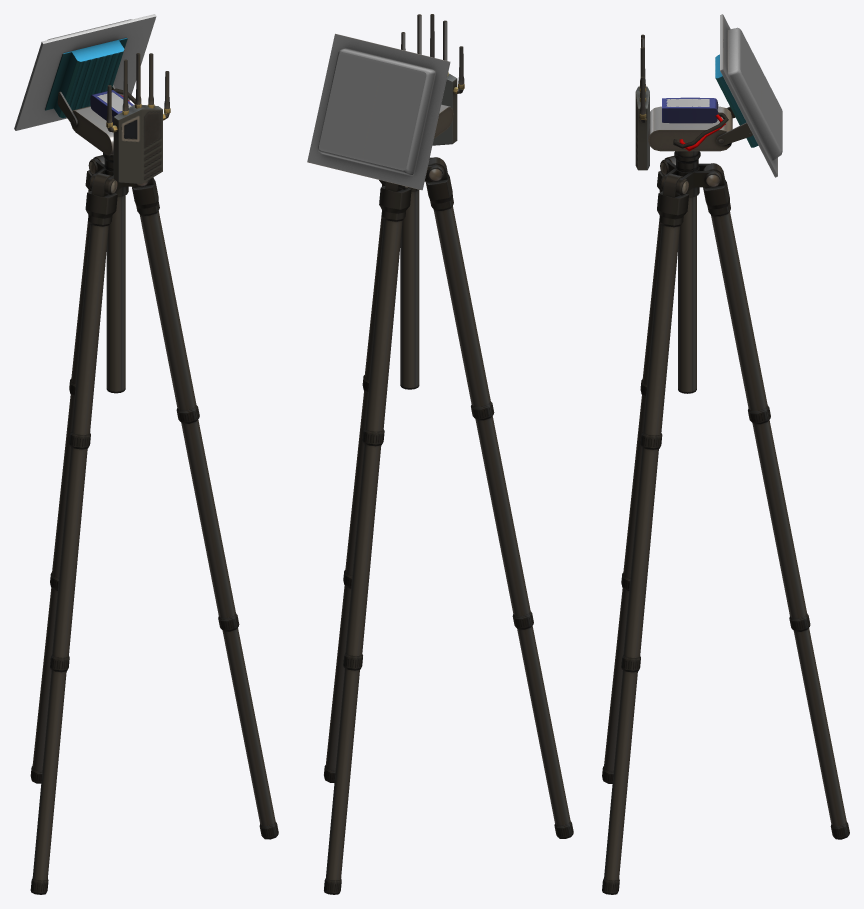
File: antenna.dae
3 renders of one model, left to right at view 1: azimuth 30°, elevation 25°; view 2: azimuth 150°, elevation 25°; view 3: azimuth 270°, elevation 25°, orthographic.
Parts seen in each view (by area): view 1: Antenna; view 2: Antenna; view 3: Antenna.
Part boxes in pixels (<box>): Antenna: <box>14,14,278,894</box>; Antenna: <box>307,14,573,894</box>; Antenna: <box>602,14,849,894</box>.
Bounding box in the file's own units: 60.67 × 53.09 × 189.
1 material, 1 textured.
